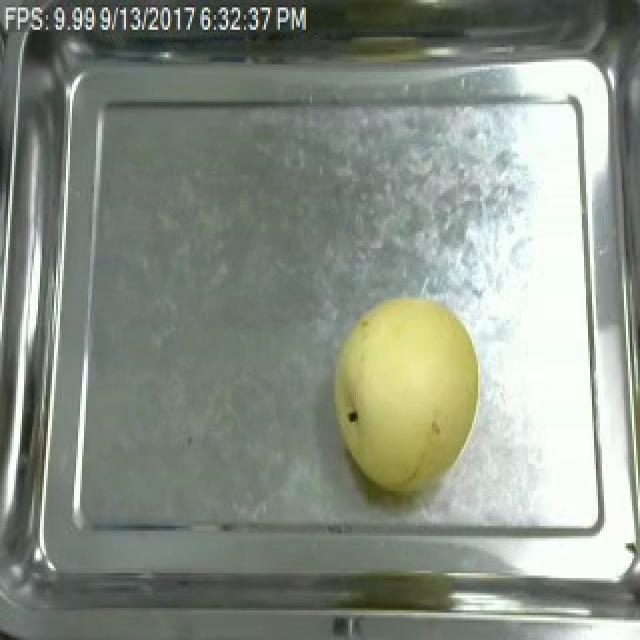Fruit: (322, 288, 488, 496)
